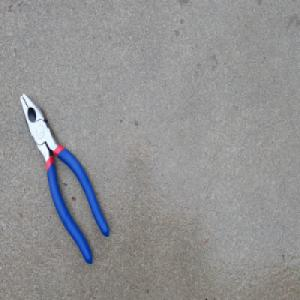Pliers: (20, 91, 110, 264)
